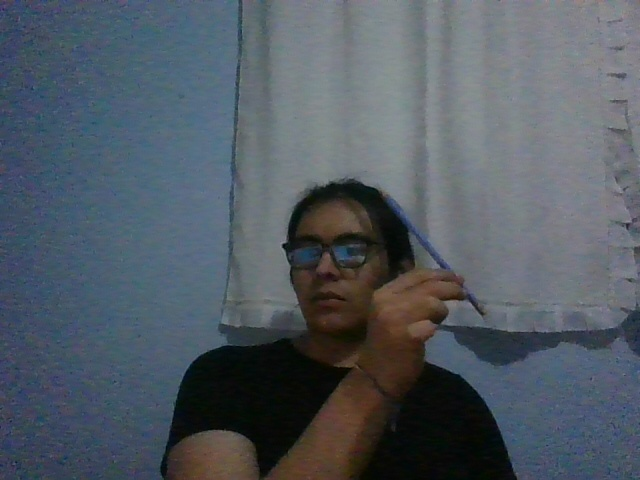lapiz: (379, 190, 488, 317)
